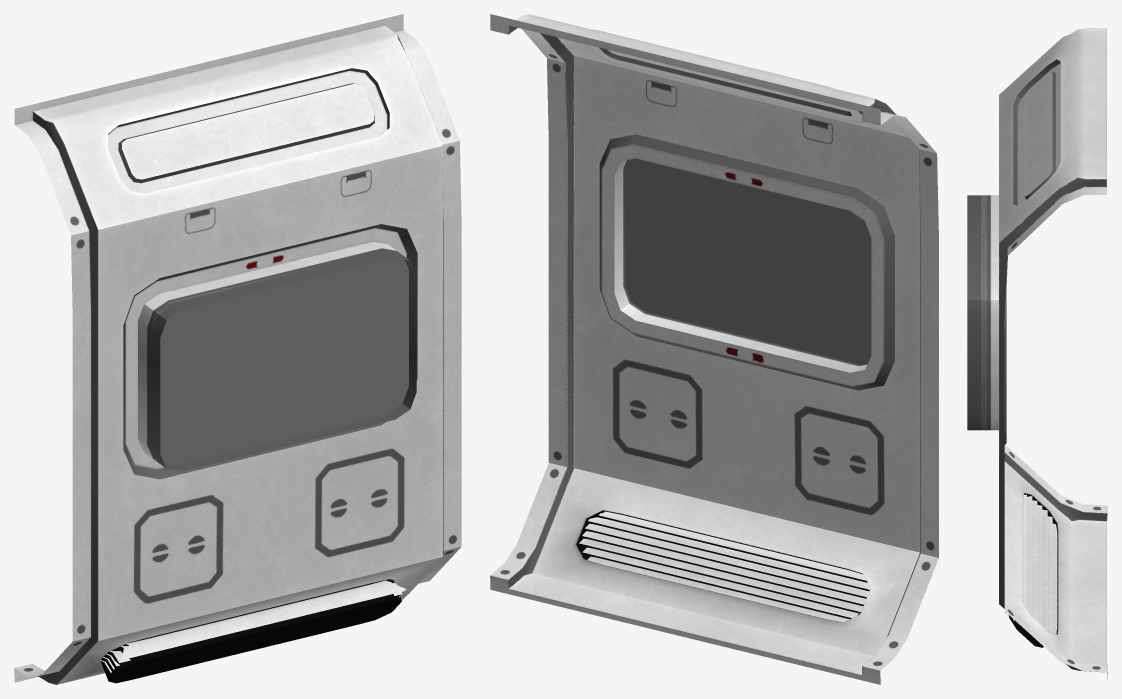
The model's file is Wall_space_window.fbx.
The picture shows the model from 3 angles, left to right: view 1: azimuth 30°, elevation 25°; view 2: azimuth 150°, elevation 25°; view 3: azimuth 270°, elevation 25°; orthographic projection. The views are drawn at different scales.
Visible parts, largest first — view 1: Space_window; view 2: Space_window; view 3: Space_window.
Part boxes in pixels (<box>): Space_window: <box>14,14,461,684</box>; Space_window: <box>490,14,938,684</box>; Space_window: <box>967,28,1107,678</box>.
Size of the model in its own units: 200 by 282 by 71.12.
